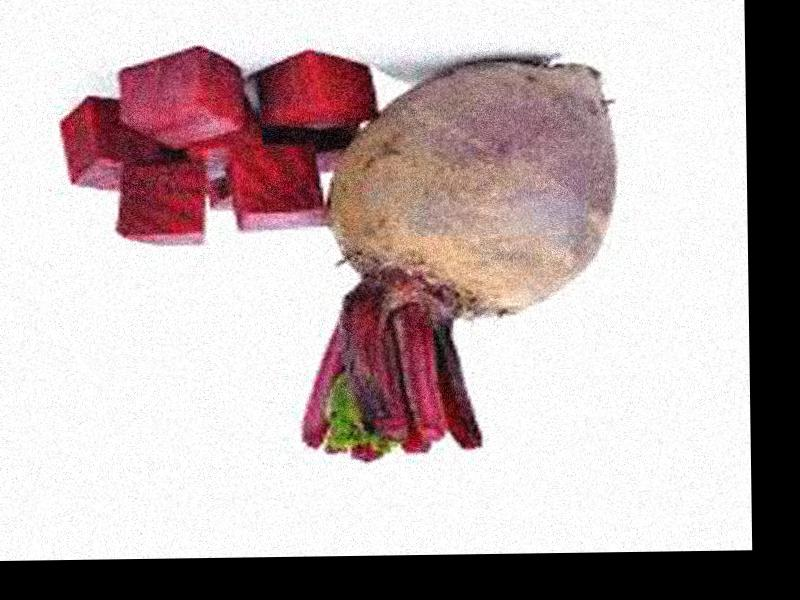Beet: (297, 56, 619, 459)
